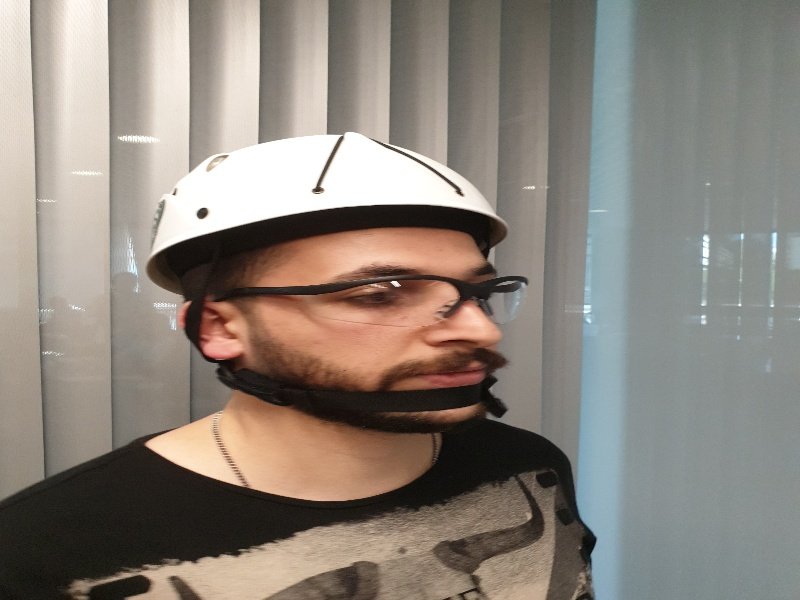Baret: (150, 134, 505, 248)
Gozluk: (229, 274, 529, 327)
